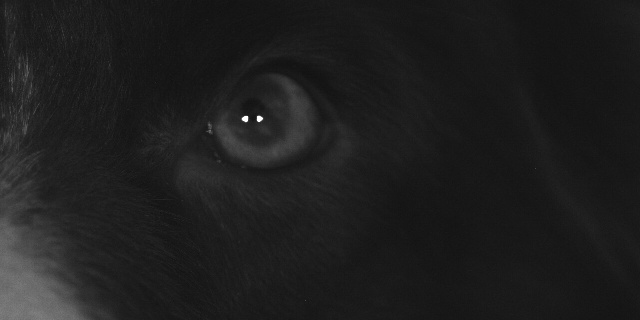iris: (202, 72, 337, 170)
